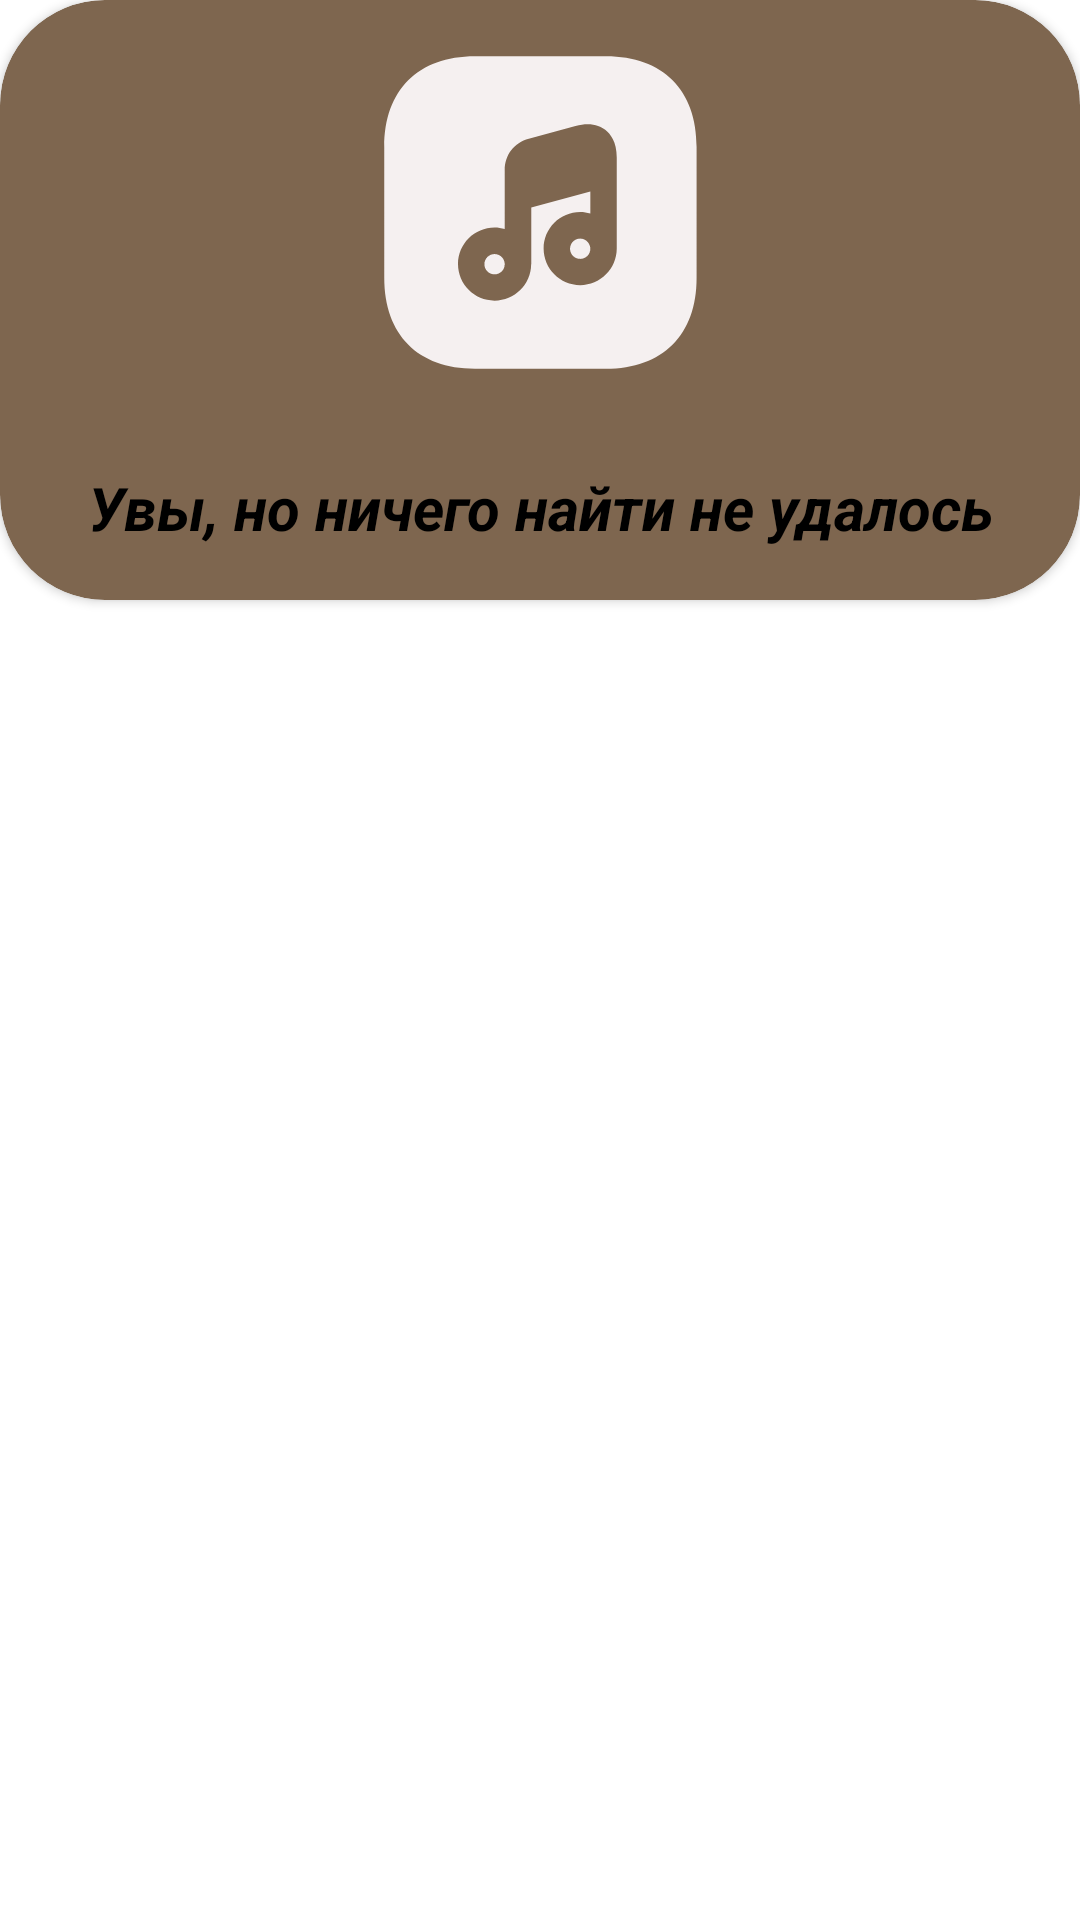

Named icons in this screenshot (1080*1920) and their centers, (x,y):
music square: (540,212)
